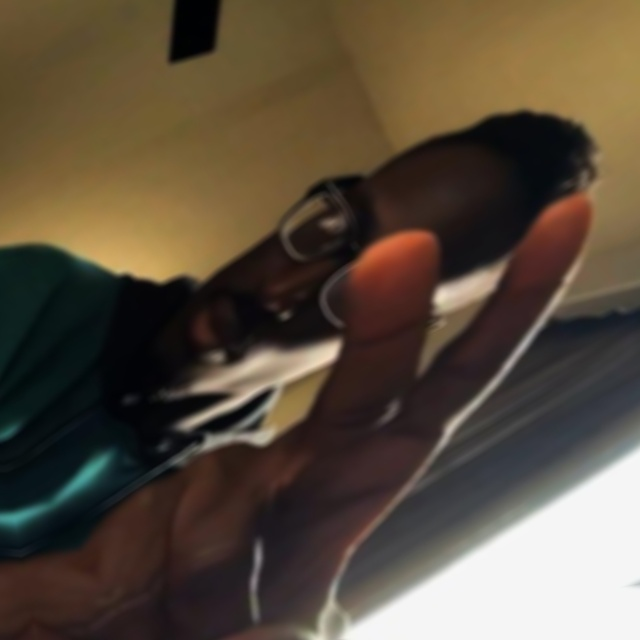Scissors: (0, 115, 640, 640)
